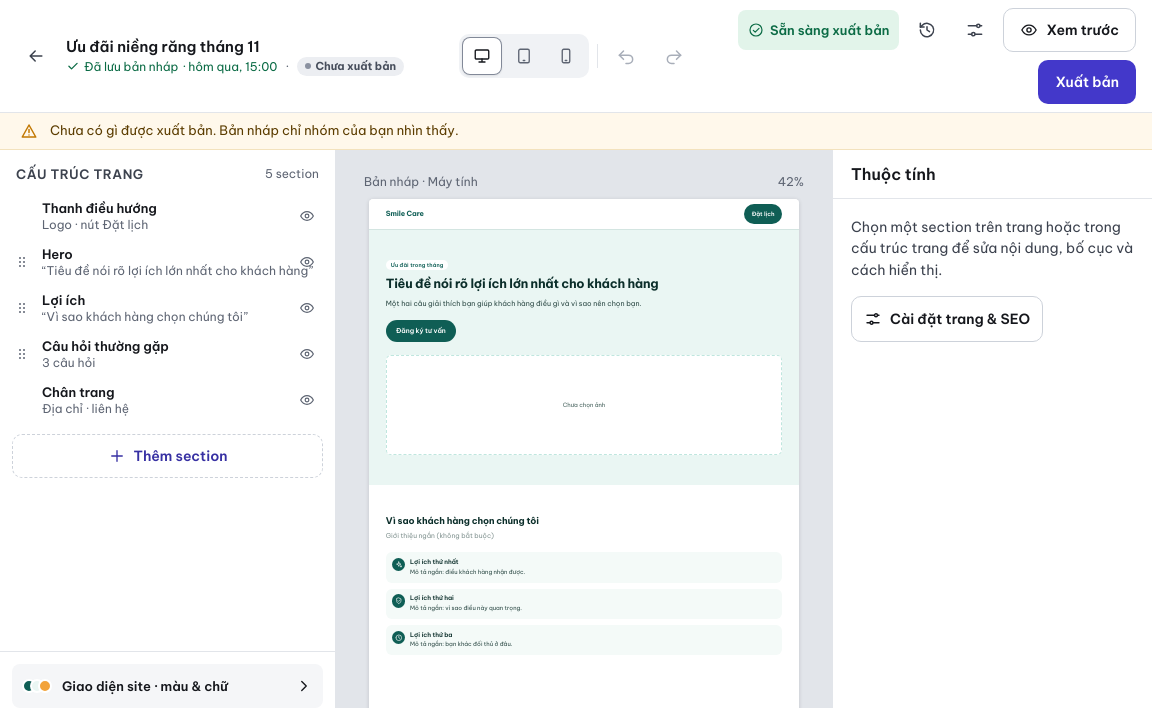
EditorApp › switches the preview device
This screenshot has width=1152, height=708.
Click the button named "Điện thoại" at [566, 56], box [546, 37, 586, 75]
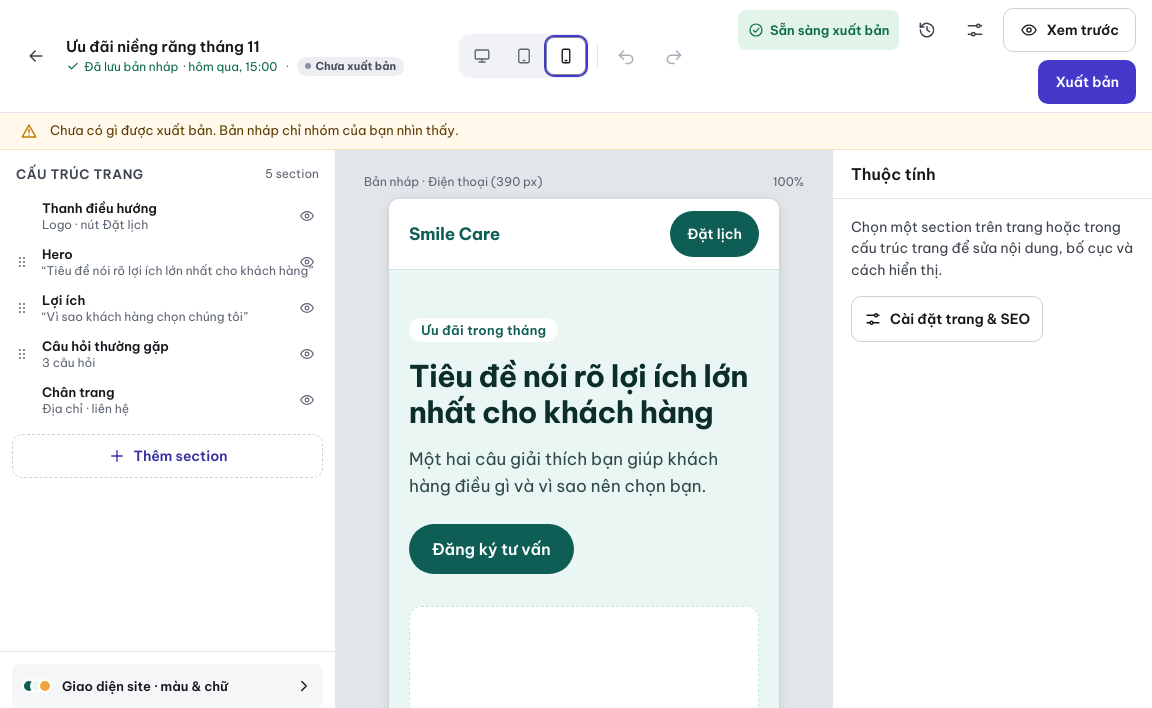
expect the text "Bản nháp · Điện thoại (390 px)" is shown: met, box [364, 174, 542, 188]
Click the button named "Máy tính bảng" at [524, 56], box [504, 37, 544, 75]
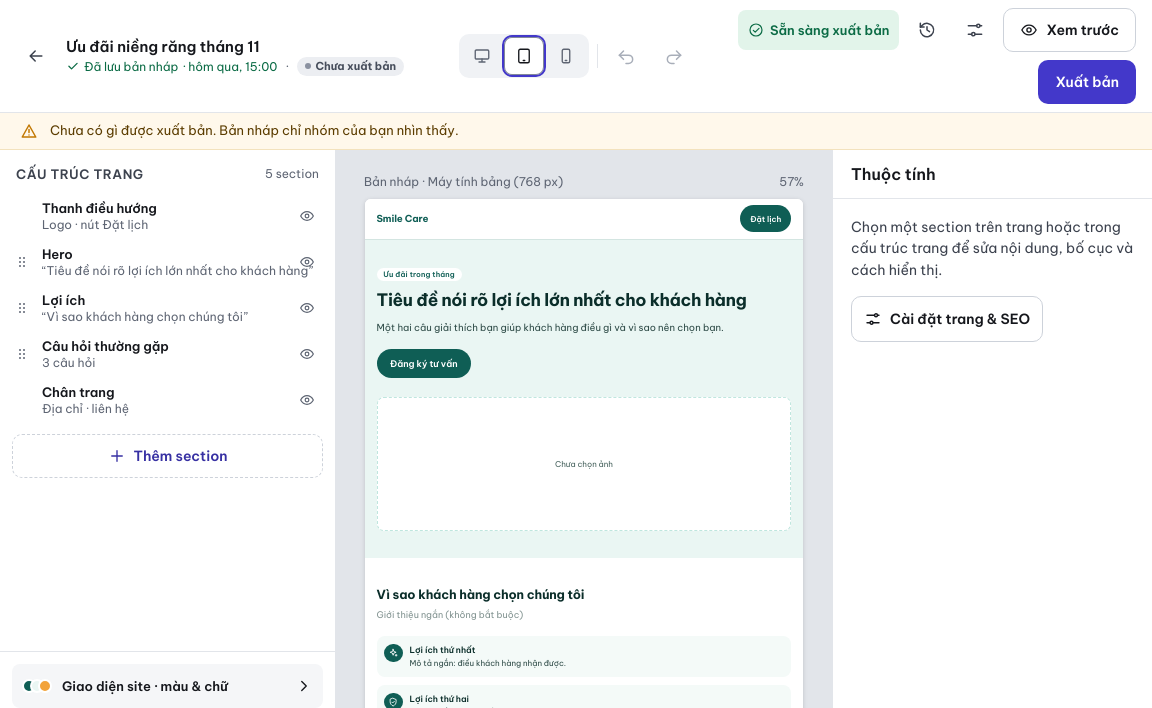
expect the text "Bản nháp · Máy tính bảng (768 px)" is shown: met, box [364, 174, 563, 188]
